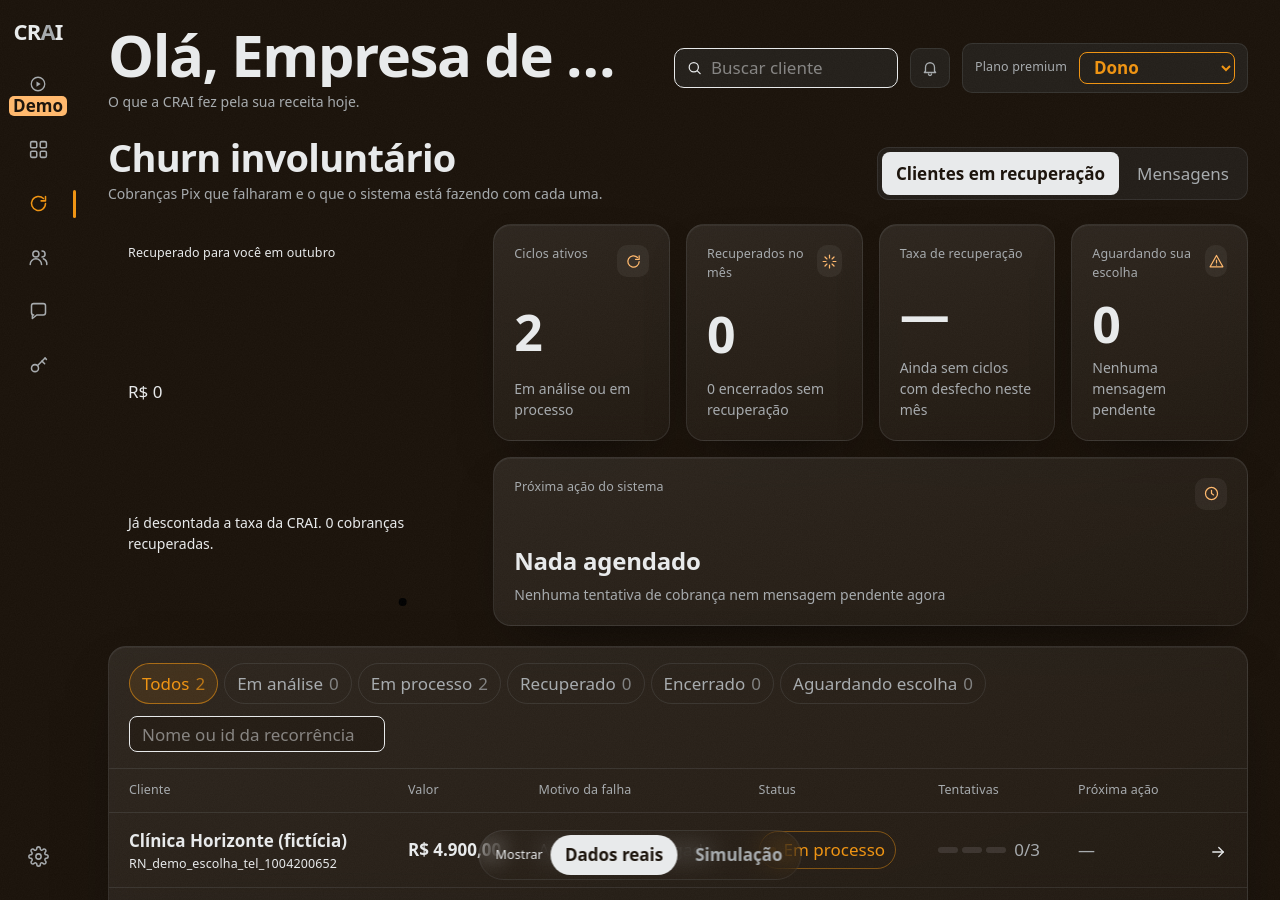
Test: a tela se atualiza sozinha em modo real › a busca que a pessoa digitou continua no campo, e a consulta periódica a respeita
Type "Clínica" into the search field named "Buscar na lista". click: (257, 734)
box: x1=129 y1=716 x2=385 y2=752
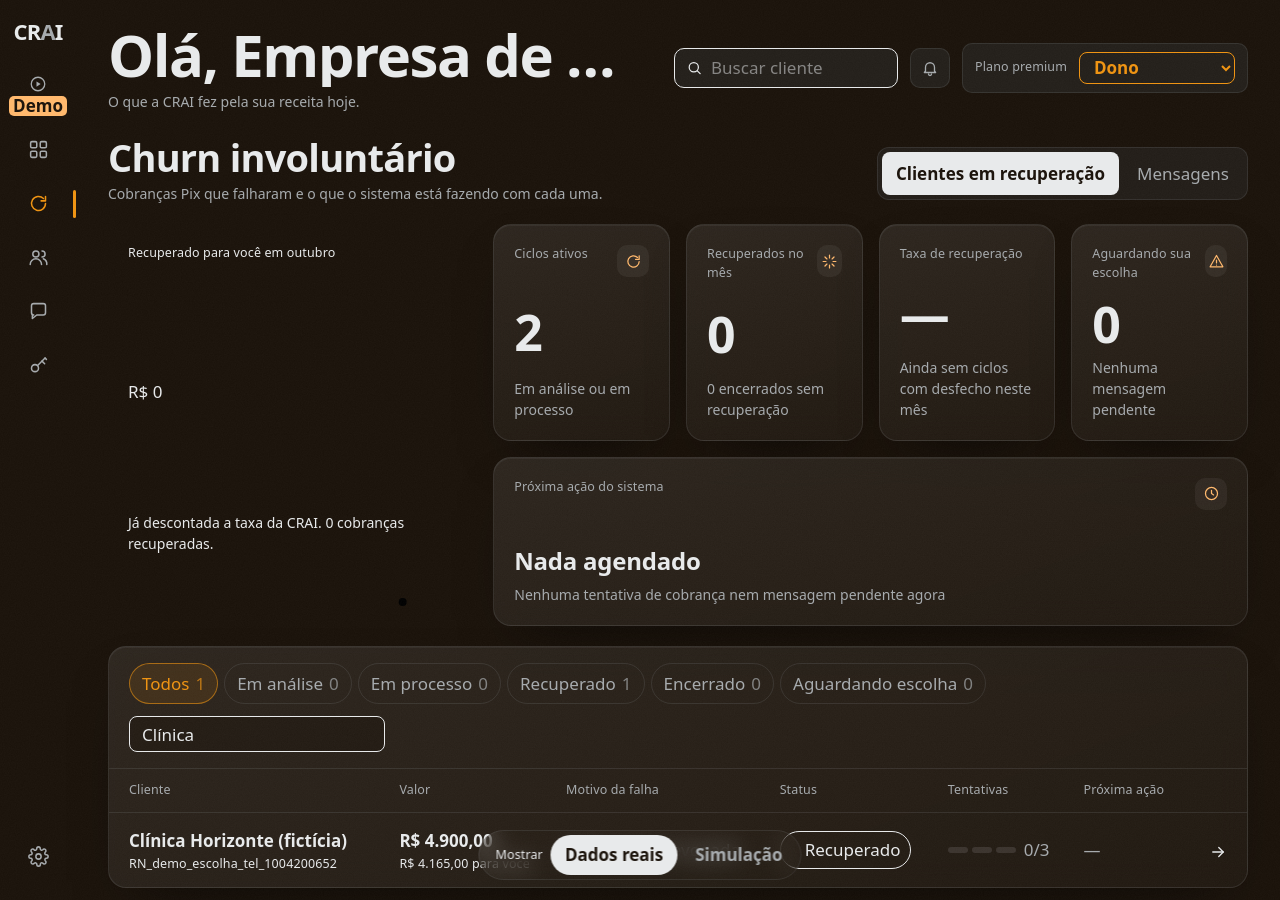
Expected: the text "Clínica Horizonte (fictícia)" is shown, x1=129 y1=827 x2=347 y2=855
Expected: the text "Recuperado" is shown, x1=780 y1=832 x2=911 y2=869
